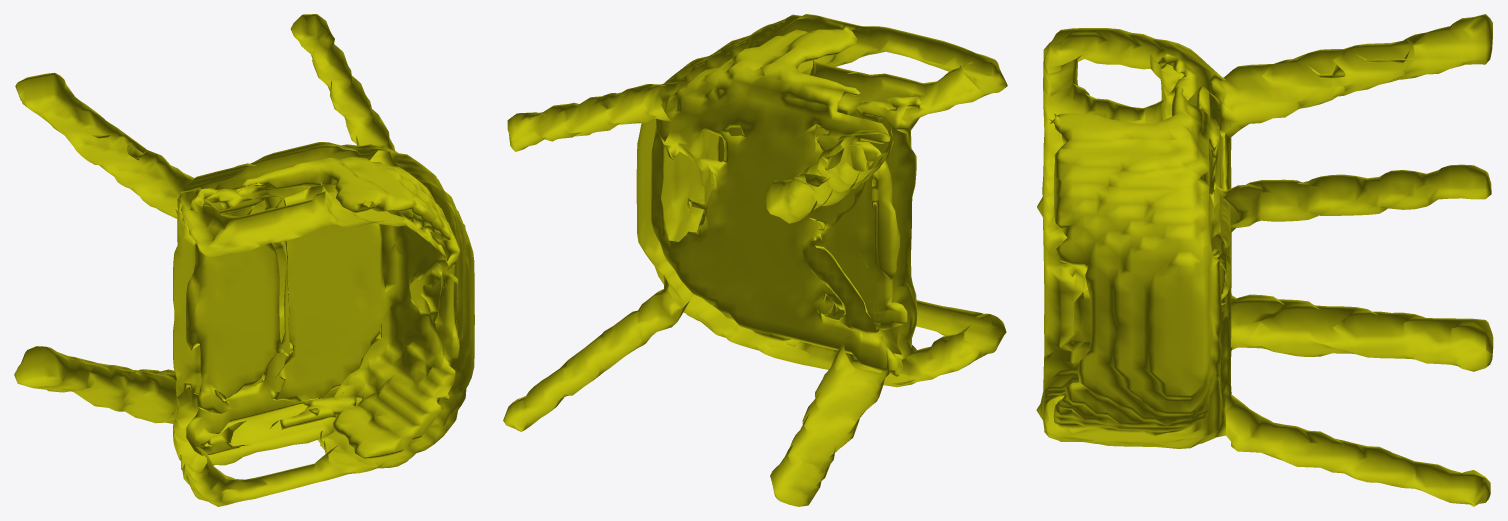
3 views of the same model, side by side, from view 1: azimuth 30°, elevation 25°; view 2: azimuth 150°, elevation 25°; view 3: azimuth 270°, elevation 25° (orthographic). The views are drawn at different scales.
Visible parts, largest first — view 1: world; view 2: world; view 3: world.
Part boxes in pixels (left/top/right/bottom): world: left=14, top=14, right=474, bottom=506; world: left=503, top=14, right=1007, bottom=506; world: left=1036, top=14, right=1493, bottom=506.
Bounding box in the file's own units: 32.93 × 32.09 × 38.73.
